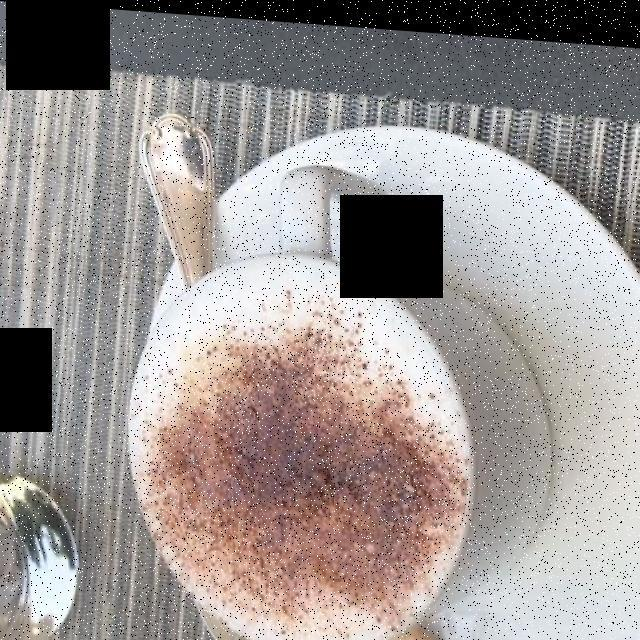cappuccino: (134, 259, 466, 640)
